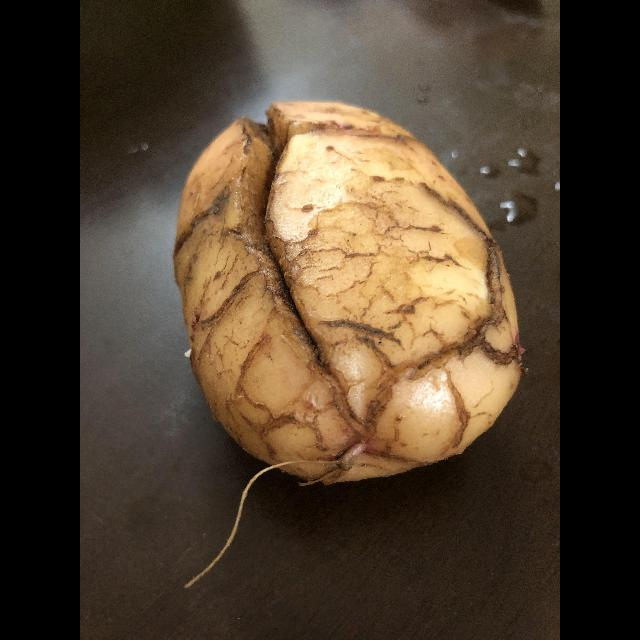Damaged potato: (173, 100, 522, 488)
